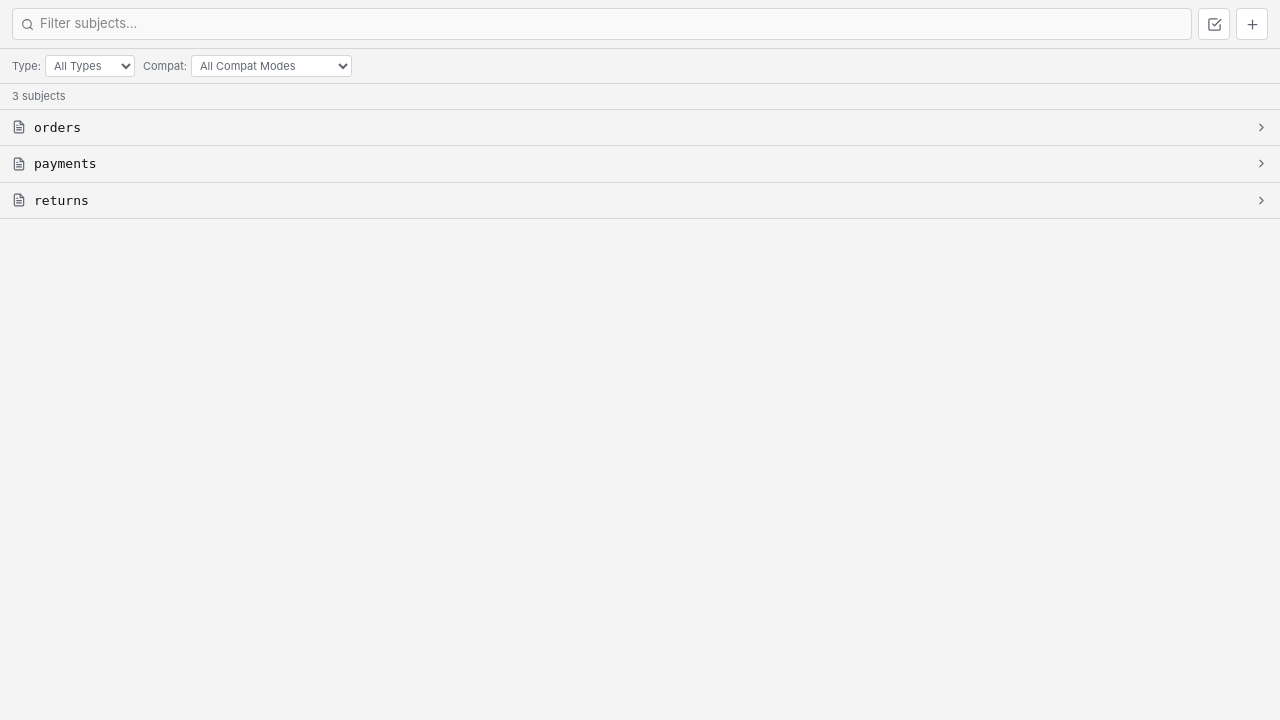
[@schema-list-coverage] bulk delete — confirmation modal › clicking delete opens confirmation modal
Step 1. Click the button named "enter bulk selection mode" → click(1214, 24), box [1198,8,1230,40]
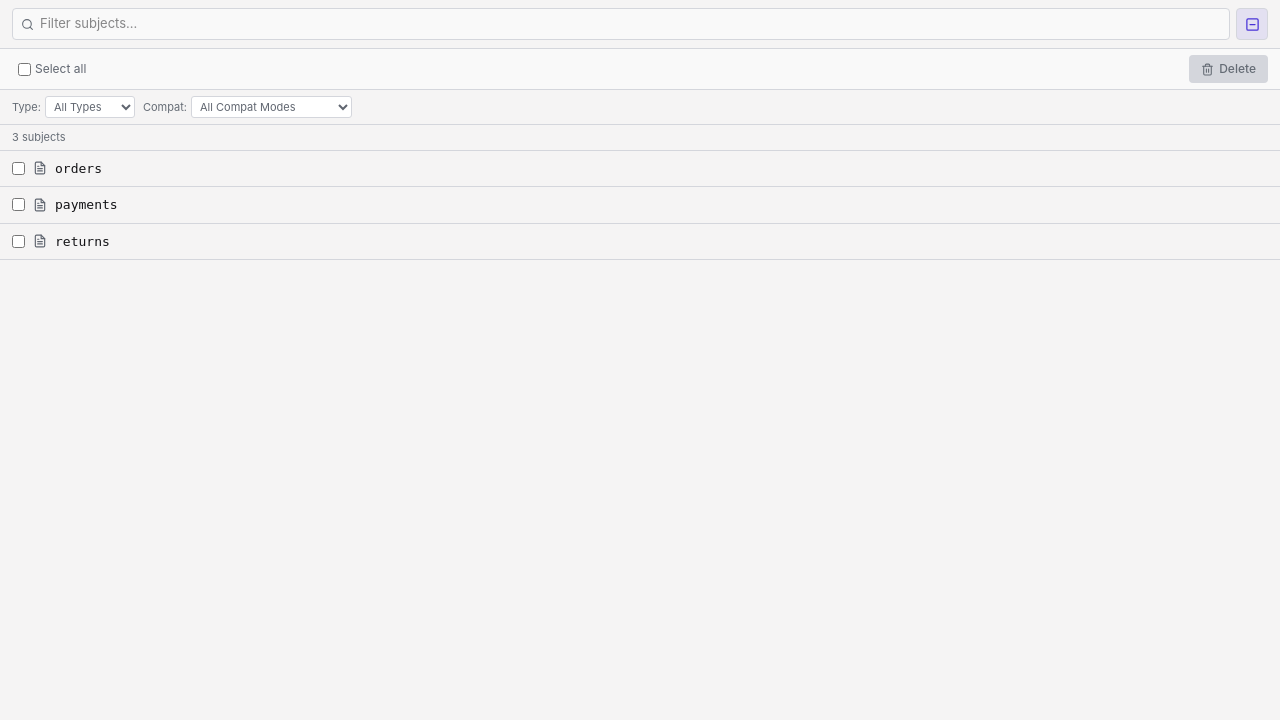
Step 2. Click the text "orders" → click(78, 168), box [55,160,102,176]
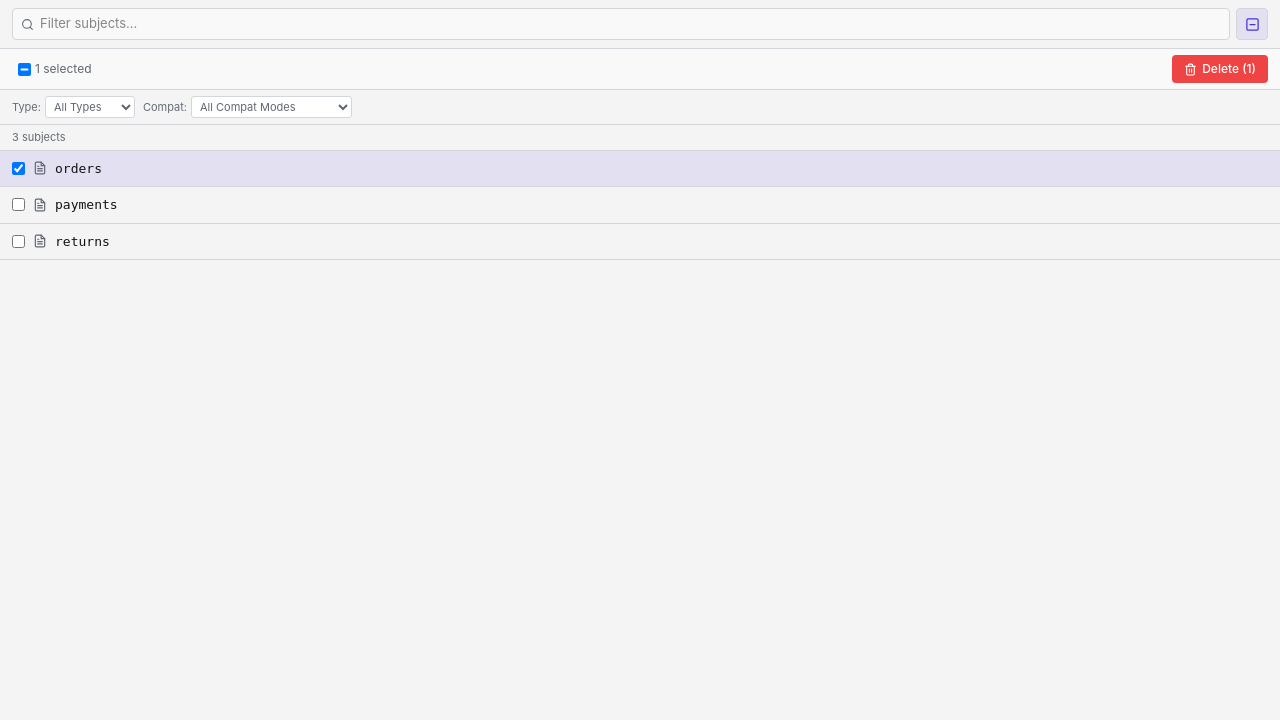
Step 3. Click the button with aria-label "delete 1 selected" → click(1220, 69), box [1172,55,1268,83]
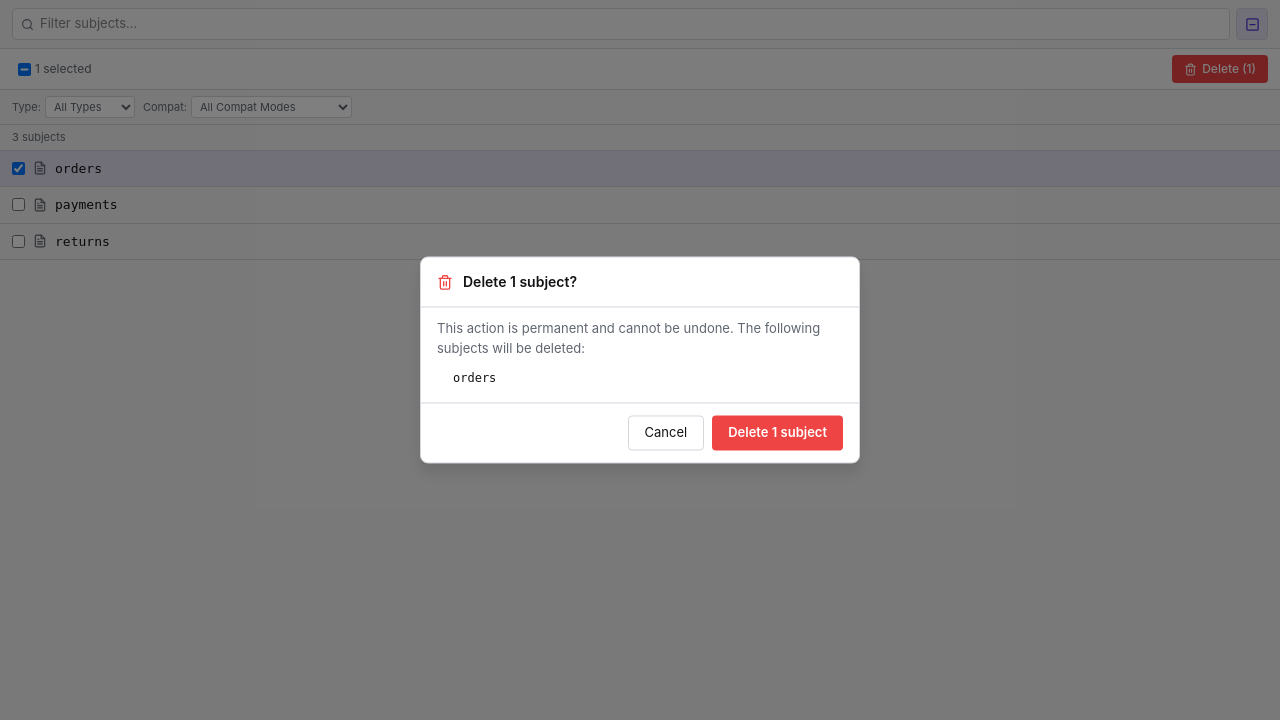
Expected: the dialog is shown, [420,256,860,464]
Expected: the heading "Delete 1 subject?" is shown, [463,272,577,292]
